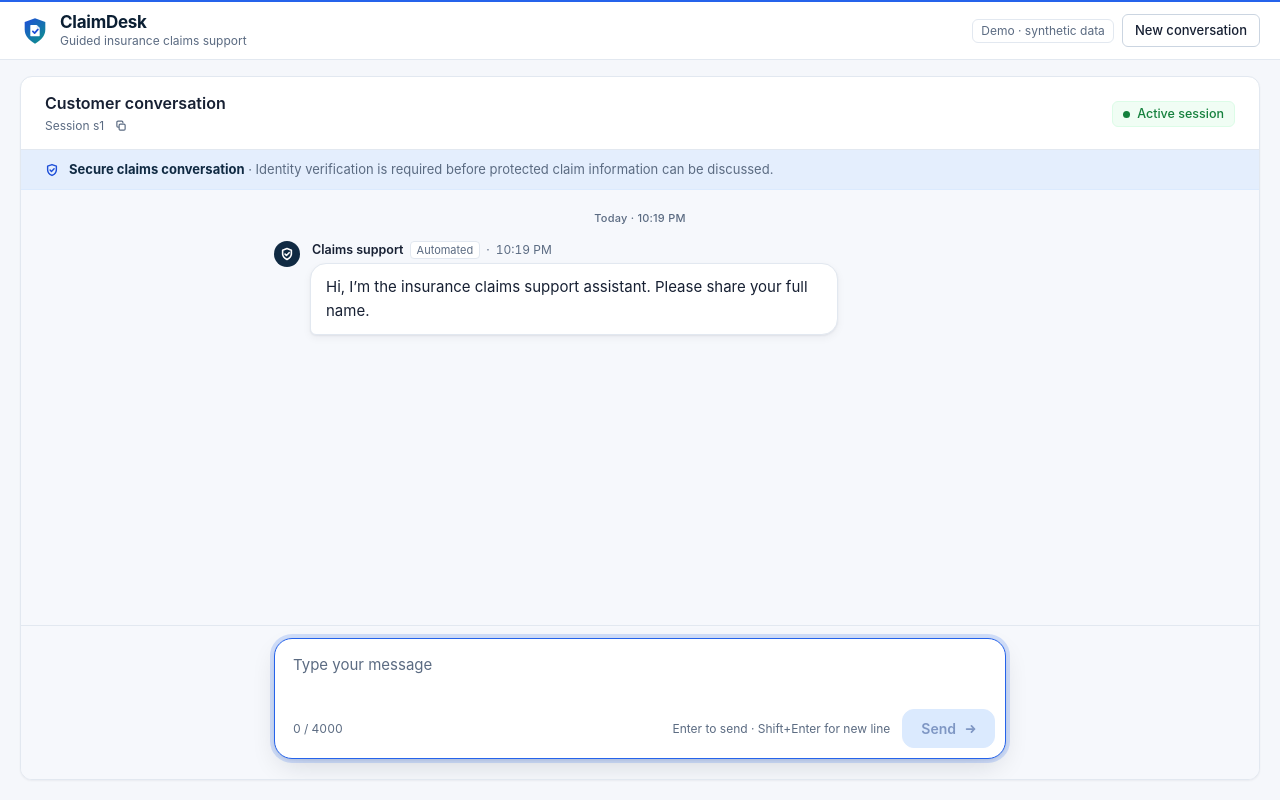
Scenario: failures › explains an expired session in plain words and locks the conversation
The width and height of the screenshot is (1280, 800).
Expected: the text "Hi, I’m the insurance claims support assistant. Please share your full name." is shown, left=326, top=275, right=822, bottom=323
Step 1. Type "hello" into the text box labelled "your message" → (640, 671), box left=275, top=639, right=1005, bottom=703
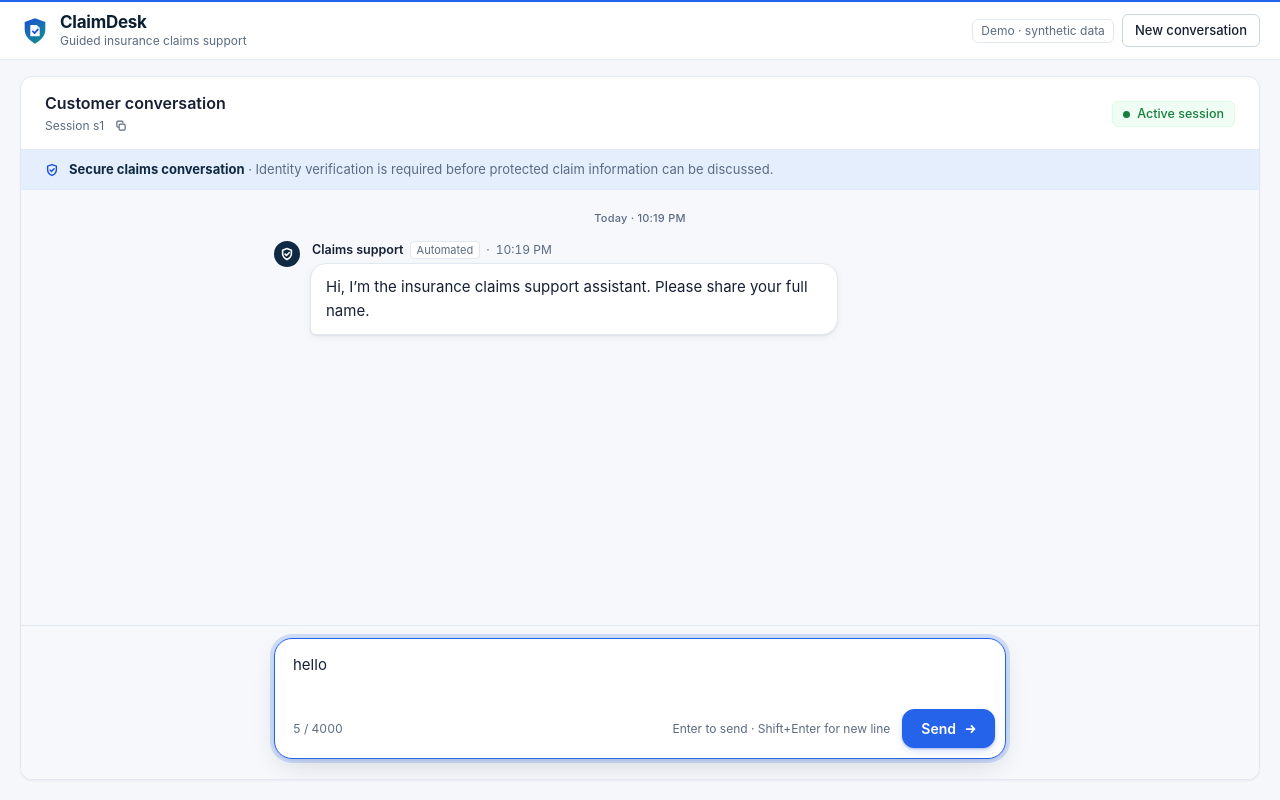
Step 2. Click the button "Send" → (949, 728), box left=902, top=709, right=995, bottom=748
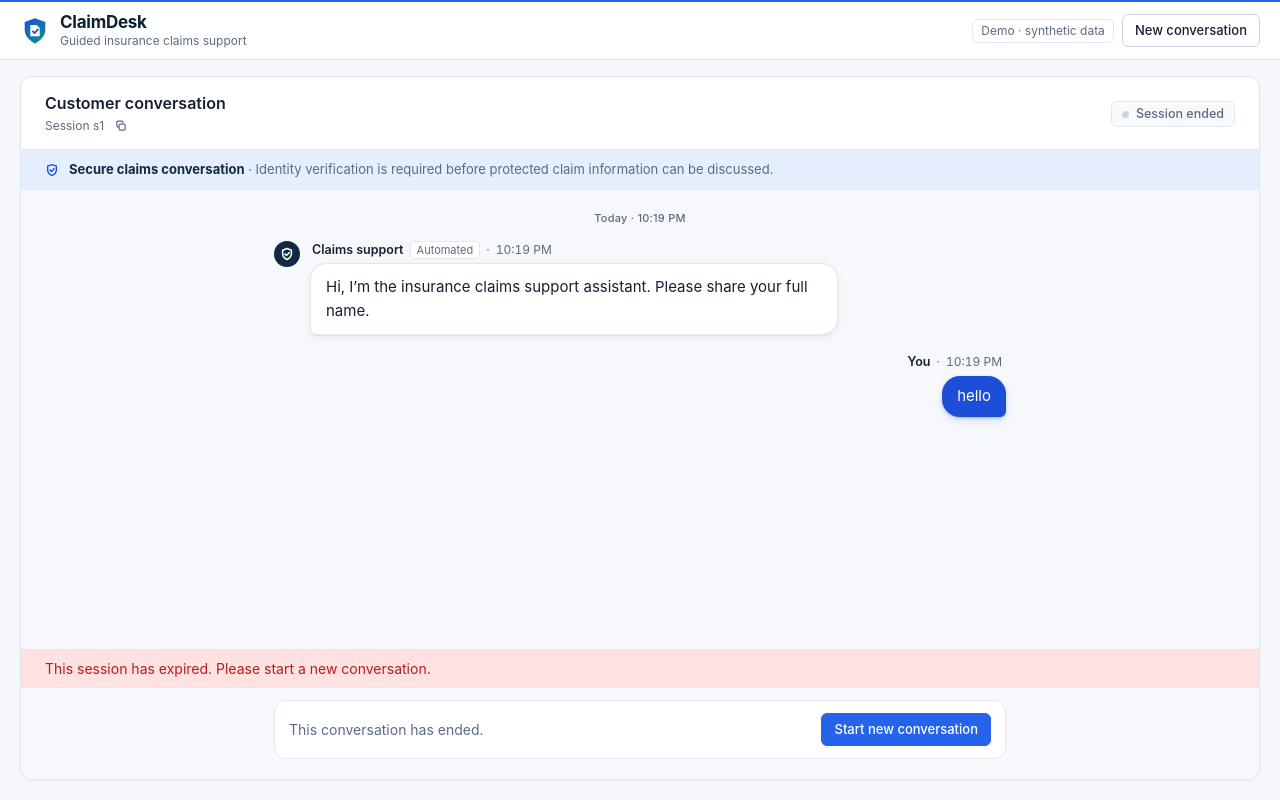
Now the message reads "This session has expired. Please start a new conversation.", box left=45, top=660, right=431, bottom=676
Now the text box labelled "Your message" is gone
Now the button "Start new conversation" is shown, box left=822, top=712, right=991, bottom=746
